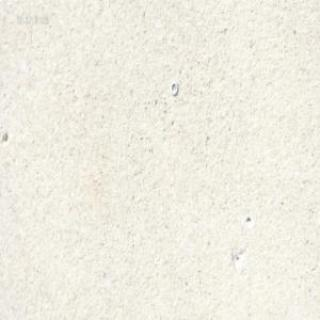Washertrack_idkeyframe: (169, 80, 177, 95)
